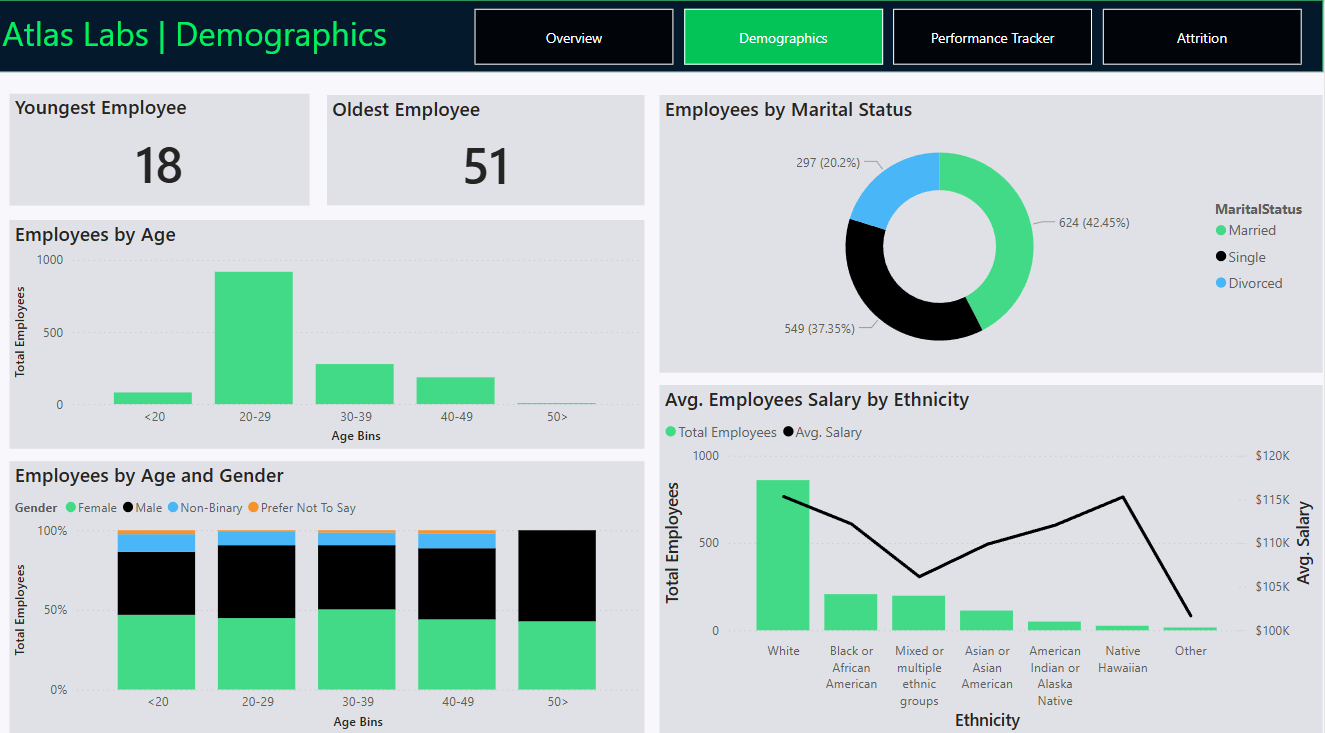

The dashboard page shown, as its layout file describes it:
{"tool":"powerbi","page":{"name":"Demographics ","canvas":[1280,720],"ordinal":1},"visuals":[{"type":"card","title":"Youngest Employee","fields":{"Values":["Min(DimEmployee.Age)"]},"box":[12.2,89.9,289.5,108.2],"z":0},{"type":"card","title":"Oldest Employee","fields":{"Values":["Max(DimEmployee.Age)"]},"box":[318.5,91.4,306.3,106.7],"z":1000},{"type":"columnChart","title":"Employees by Age","fields":{"Category":["DimEmployee.Age Bins"],"Y":["__Measures.Total Employees"]},"box":[12.2,211.8,612.6,221],"z":2000},{"type":"hundredPercentStackedColumnChart","title":"Employees by Age and Gender","fields":{"Category":["DimEmployee.Age Bins"],"Series":["DimEmployee.Gender"],"Y":["__Measures.Total Employees"]},"box":[12.2,445,612.6,263.6],"z":3000},{"type":"donutChart","title":"Employees by Marital Status","fields":{"Y":["__Measures.Total Employees"],"Category":["DimEmployee.MaritalStatus"]},"box":[640,91.4,640,268.2],"z":4000},{"type":"lineStackedColumnComboChart","title":"Avg. Employees Salary by Ethnicity","fields":{"Y":["__Measures.Total Employees"],"Category":["DimEmployee.Ethnicity"],"Y2":["__Measures.Avg. Salary"]},"box":[640,371.8,640,338.3],"z":5000},{"type":"shape","box":[0,0,1279.7,69.9],"z":6000},{"type":"textbox","box":[0,4.6,400.8,57.9],"z":7000},{"type":"pageNavigator","box":[460.3,8.6,800,54.2],"z":8000}]}

Visuals, with their boxes in screenshot pixels (x1, y1, x2, y2), scaled from the page's 1280x720 canvas onto the 1325x733 screenshot:
"Youngest Employee" card: bbox(13, 92, 312, 202)
"Oldest Employee" card: bbox(330, 93, 647, 202)
"Employees by Age" columnChart: bbox(13, 216, 647, 441)
"Employees by Age and Gender" hundredPercentStackedColumnChart: bbox(13, 453, 647, 721)
"Employees by Marital Status" donutChart: bbox(662, 93, 1324, 366)
"Avg. Employees Salary by Ethnicity" lineStackedColumnComboChart: bbox(662, 379, 1324, 723)
shape: bbox(0, 0, 1324, 71)
textbox: bbox(0, 5, 415, 64)
pageNavigator: bbox(476, 9, 1305, 64)
